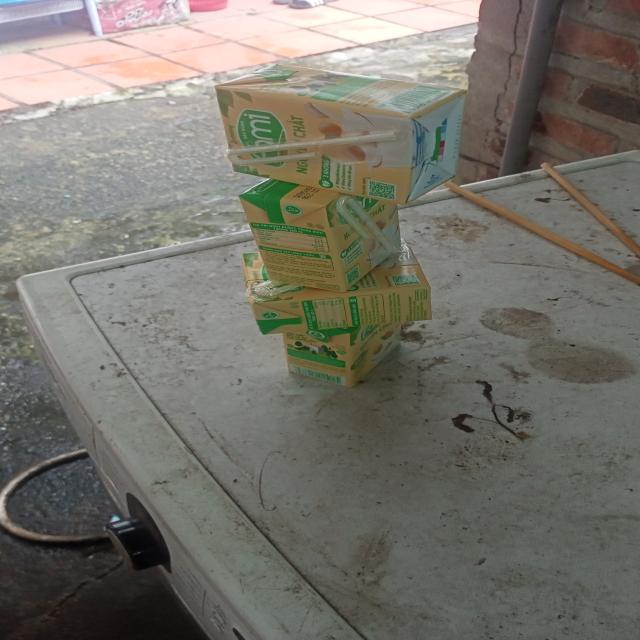Fami: (215, 65, 471, 206), (237, 179, 407, 295), (245, 246, 436, 337), (284, 325, 407, 389)
